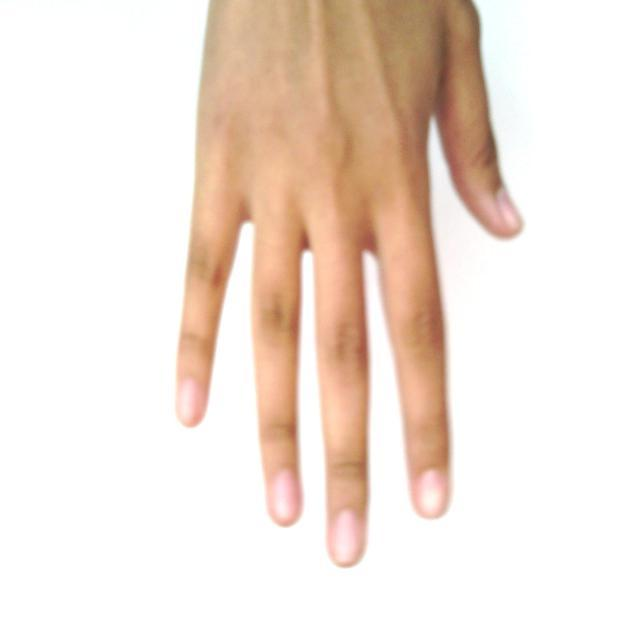Fingernail: (333, 510, 361, 565), (418, 470, 446, 516), (273, 470, 298, 520), (497, 189, 523, 228), (179, 379, 202, 420)
